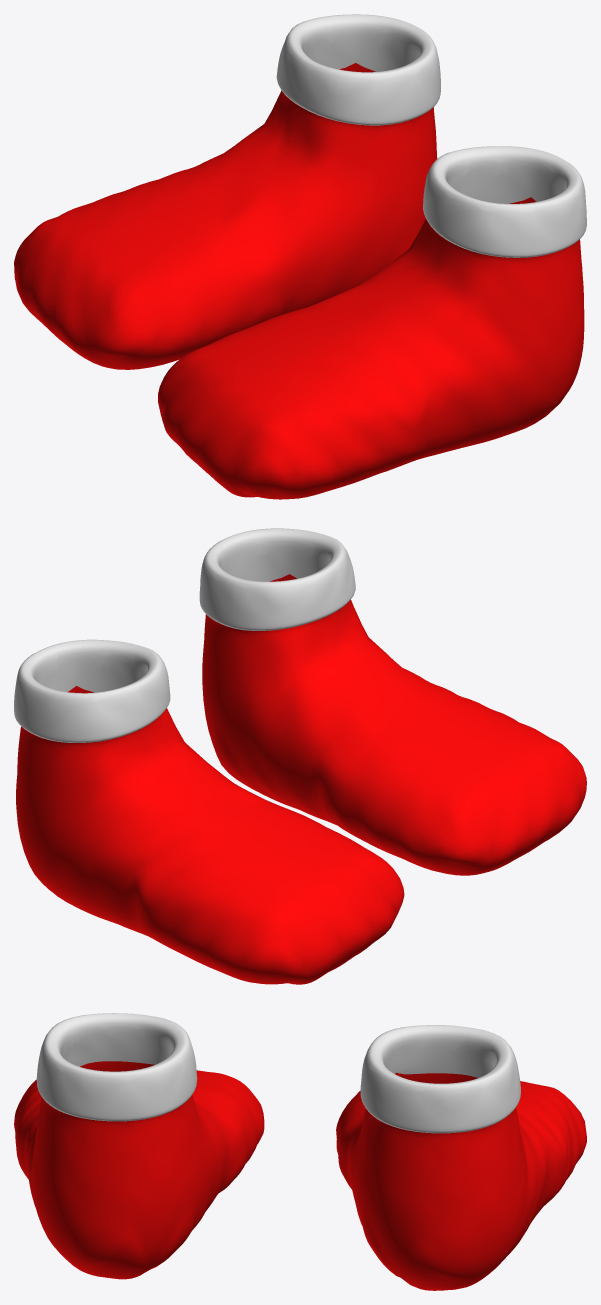
File: Socks.fbx
3 views of the same model, one above another, from view 1: azimuth 30°, elevation 25°; view 2: azimuth 150°, elevation 25°; view 3: azimuth 270°, elevation 25° (orthographic). The views are drawn at different scales.
Visible parts, largest first — view 1: Soccks.001, Soccks; view 2: Soccks, Soccks.001; view 3: Soccks, Soccks.001.
Part boxes in pixels (x1,y1,x2,y2): Soccks.001: [158, 146, 586, 499]; Soccks: [14, 14, 440, 369]; Soccks: [14, 639, 404, 984]; Soccks.001: [199, 528, 586, 875]; Soccks: [336, 1025, 586, 1290]; Soccks.001: [14, 1013, 264, 1279].
Bounding box in the file's own units: 49.88 × 29.95 × 65.39.
